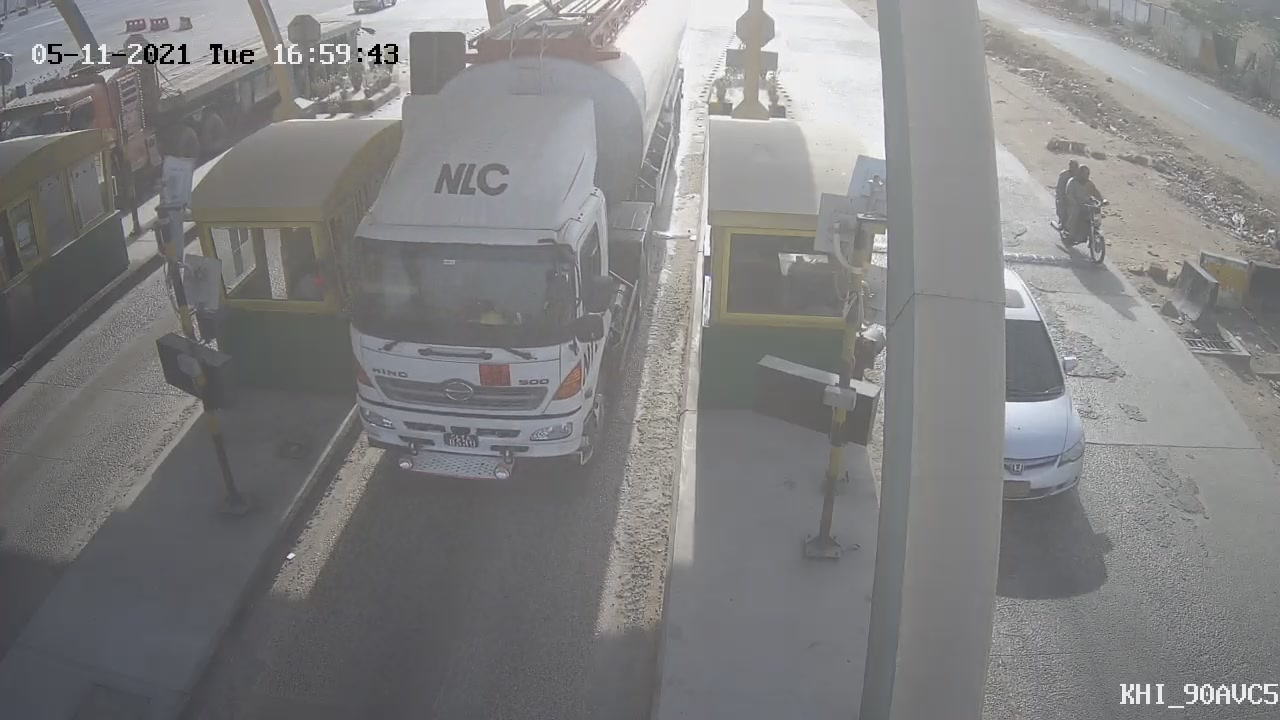F6: (285, 1, 712, 513)
